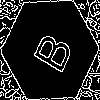B: (25, 25, 75, 75)
